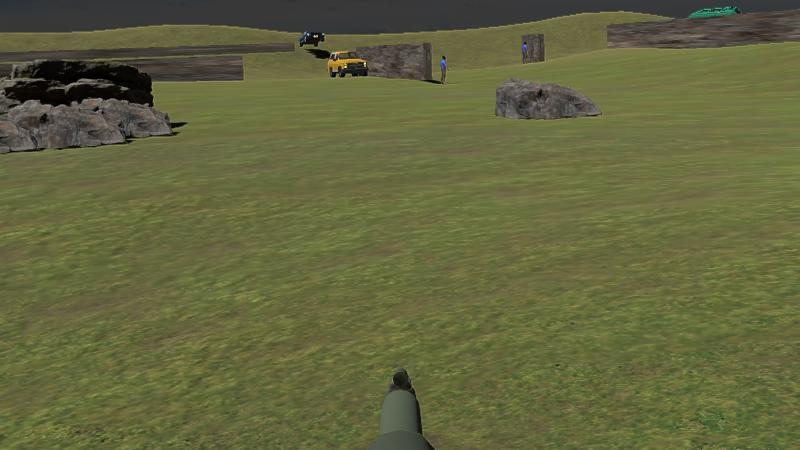car: (327, 50, 368, 79)
